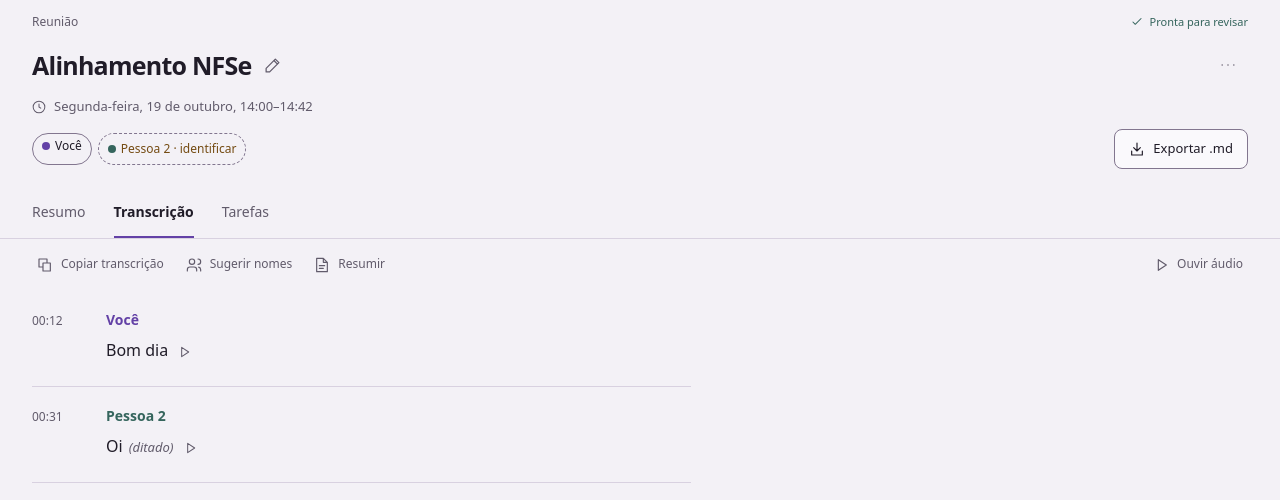
it: MeetingDetail › Summary shows backend error message
The width and height of the screenshot is (1280, 500).
Click the button "Resumir". click: point(350, 264)
box: [309,246,390,282]
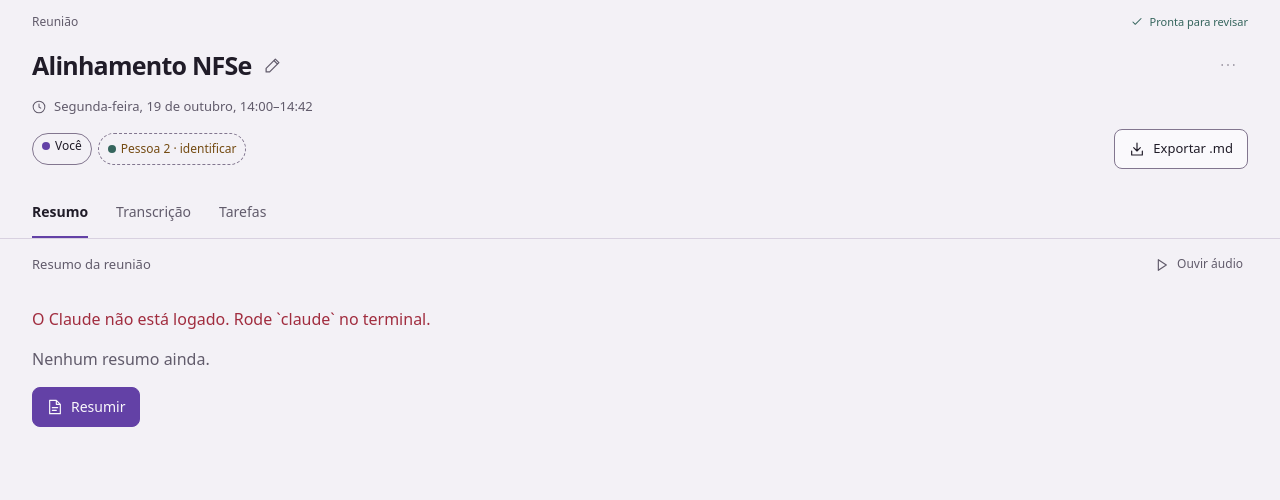
Check: the text "O Claude não está logado" is shown, box [32,308,430,330]
Click the button "Resumir". click: point(86, 406)
box: [32,386,140,426]
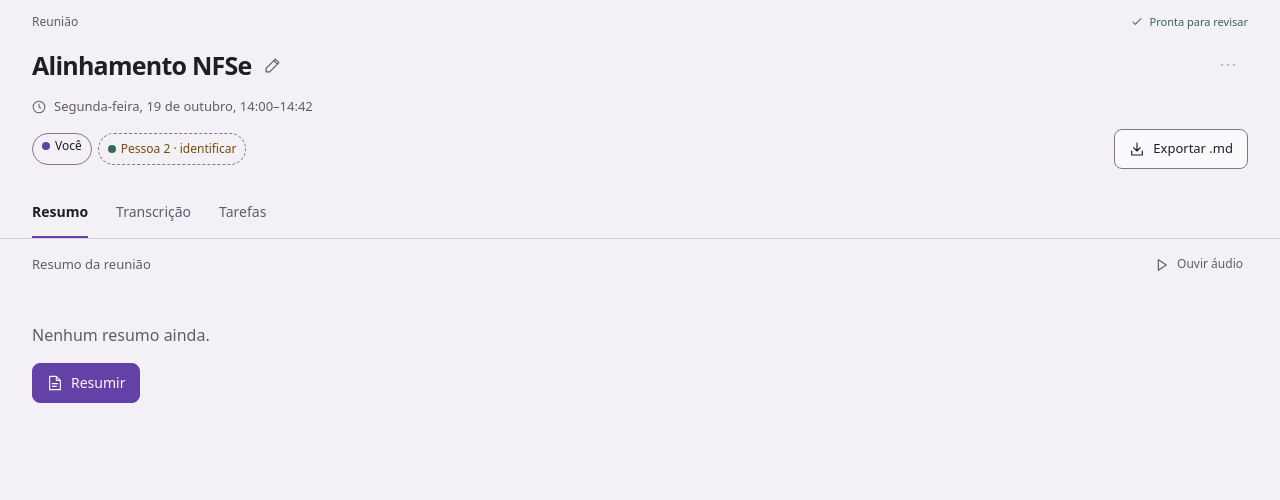
Check: the text "O Claude não está logado" is gone
